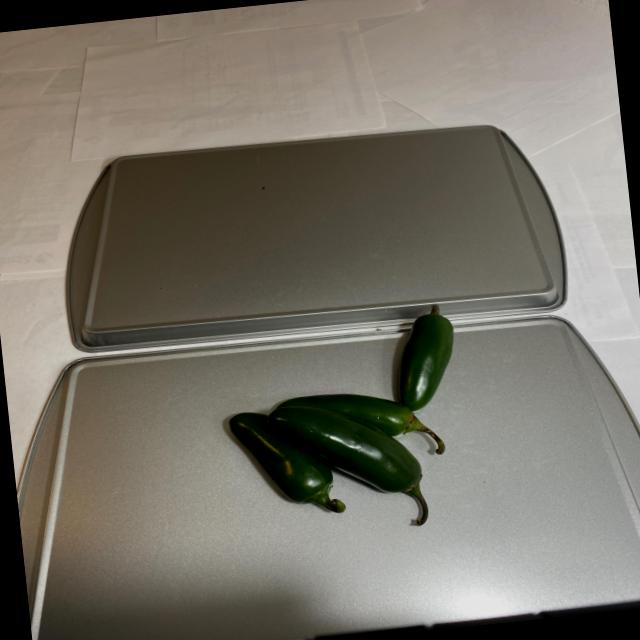chilli: (214, 300, 476, 543)
